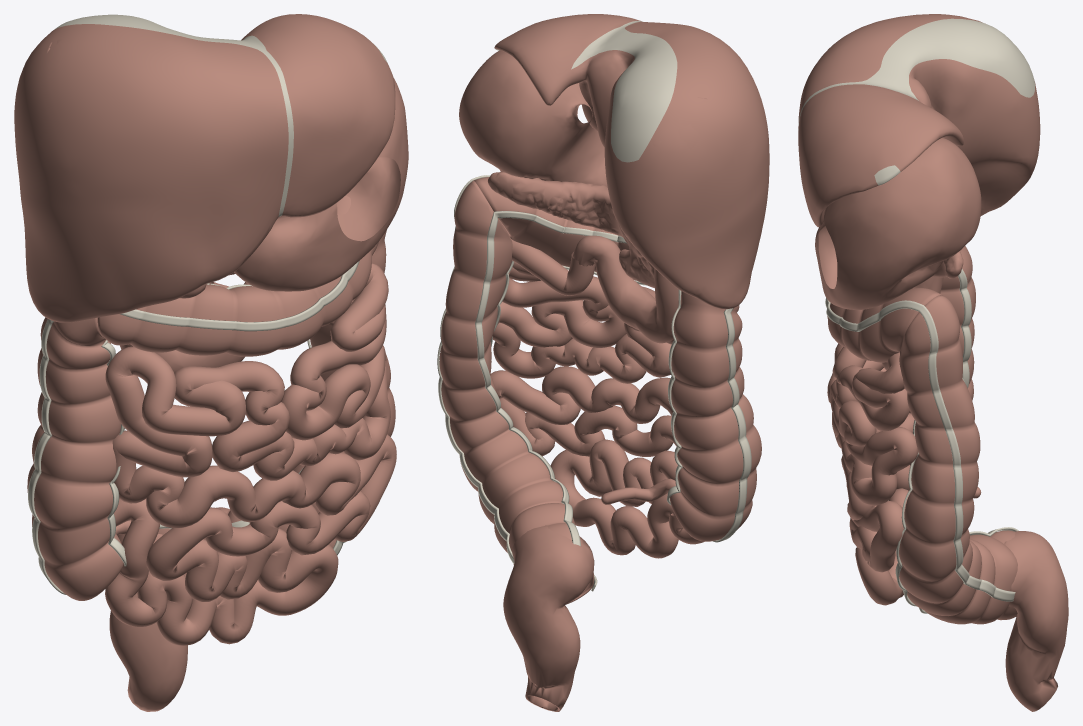
The model's file is detail-digestive-abdomen.glb.
3 views of the same model, side by side, from view 1: azimuth 30°, elevation 25°; view 2: azimuth 150°, elevation 25°; view 3: azimuth 270°, elevation 25° (orthographic). The views are drawn at different scales.
Parts seen in each view (by area): view 1: za-f4ed8b7ee1271f34, za-9f75de04677fd3d5, za-d8a2603f0e6f08f1, za-035c20b45f92da30, za-fc01578188b5b6ca, za-18c54b5e42d72466, za-2bfac2f29a89e4d7, za-5edf4038bc9422c2, za-73e0cefc541f1b82, za-5755a8ffe4ac269e; view 2: za-f4ed8b7ee1271f34, za-9f75de04677fd3d5, za-5edf4038bc9422c2, za-d8a2603f0e6f08f1, za-035c20b45f92da30, za-18c54b5e42d72466, za-73e0f83df8e16452, za-73e0cefc541f1b82, za-894ea783b08bb69a, za-2bfac2f29a89e4d7, za-fc01578188b5b6ca, za-323cd4e8d34b51ee; view 3: za-f4ed8b7ee1271f34, za-5edf4038bc9422c2, za-035c20b45f92da30, za-9f75de04677fd3d5, za-18c54b5e42d72466, za-2bfac2f29a89e4d7, za-fc01578188b5b6ca, za-d8a2603f0e6f08f1, za-894ea783b08bb69a, za-5755a8ffe4ac269e, za-73e0f83df8e16452.
Part boxes in pixels (x1,y1,x2,y2): za-f4ed8b7ee1271f34: (14, 14, 395, 322); za-9f75de04677fd3d5: (105, 263, 396, 645); za-d8a2603f0e6f08f1: (27, 317, 123, 600); za-035c20b45f92da30: (234, 78, 408, 291); za-fc01578188b5b6ca: (97, 195, 378, 356); za-18c54b5e42d72466: (109, 534, 187, 711); za-2bfac2f29a89e4d7: (28, 260, 359, 594); za-5edf4038bc9422c2: (158, 230, 395, 576); za-73e0cefc541f1b82: (120, 282, 249, 373); za-5755a8ffe4ac269e: (101, 340, 346, 566); za-f4ed8b7ee1271f34: (494, 14, 769, 309); za-9f75de04677fd3d5: (491, 239, 704, 558); za-5edf4038bc9422c2: (439, 180, 594, 604); za-d8a2603f0e6f08f1: (670, 291, 761, 541); za-035c20b45f92da30: (459, 50, 607, 186); za-18c54b5e42d72466: (503, 525, 594, 711); za-73e0f83df8e16452: (487, 172, 654, 288); za-73e0cefc541f1b82: (572, 235, 681, 343); za-894ea783b08bb69a: (475, 211, 682, 546); za-2bfac2f29a89e4d7: (437, 175, 751, 563); za-fc01578188b5b6ca: (474, 177, 636, 280); za-323cd4e8d34b51ee: (601, 478, 675, 504); za-f4ed8b7ee1271f34: (798, 14, 1040, 227); za-5edf4038bc9422c2: (899, 295, 1017, 624); za-035c20b45f92da30: (815, 137, 981, 309); za-9f75de04677fd3d5: (827, 343, 918, 605); za-18c54b5e42d72466: (1004, 531, 1068, 711); za-2bfac2f29a89e4d7: (825, 298, 1015, 601); za-fc01578188b5b6ca: (827, 288, 942, 362); za-d8a2603f0e6f08f1: (909, 246, 975, 465); za-894ea783b08bb69a: (958, 269, 1018, 536); za-5755a8ffe4ac269e: (895, 420, 927, 613); za-73e0f83df8e16452: (932, 251, 963, 278).
Size of the model in its own units: 0.2292 by 0.4539 by 0.1712.
